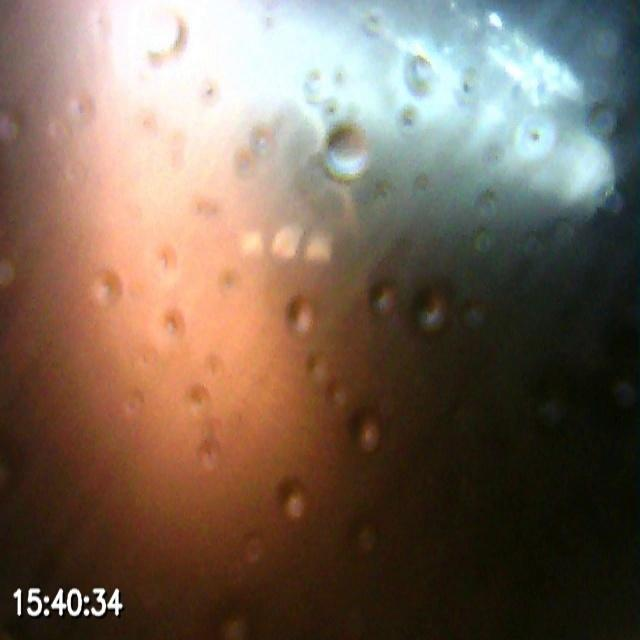white-dots: (239, 224, 336, 265)
